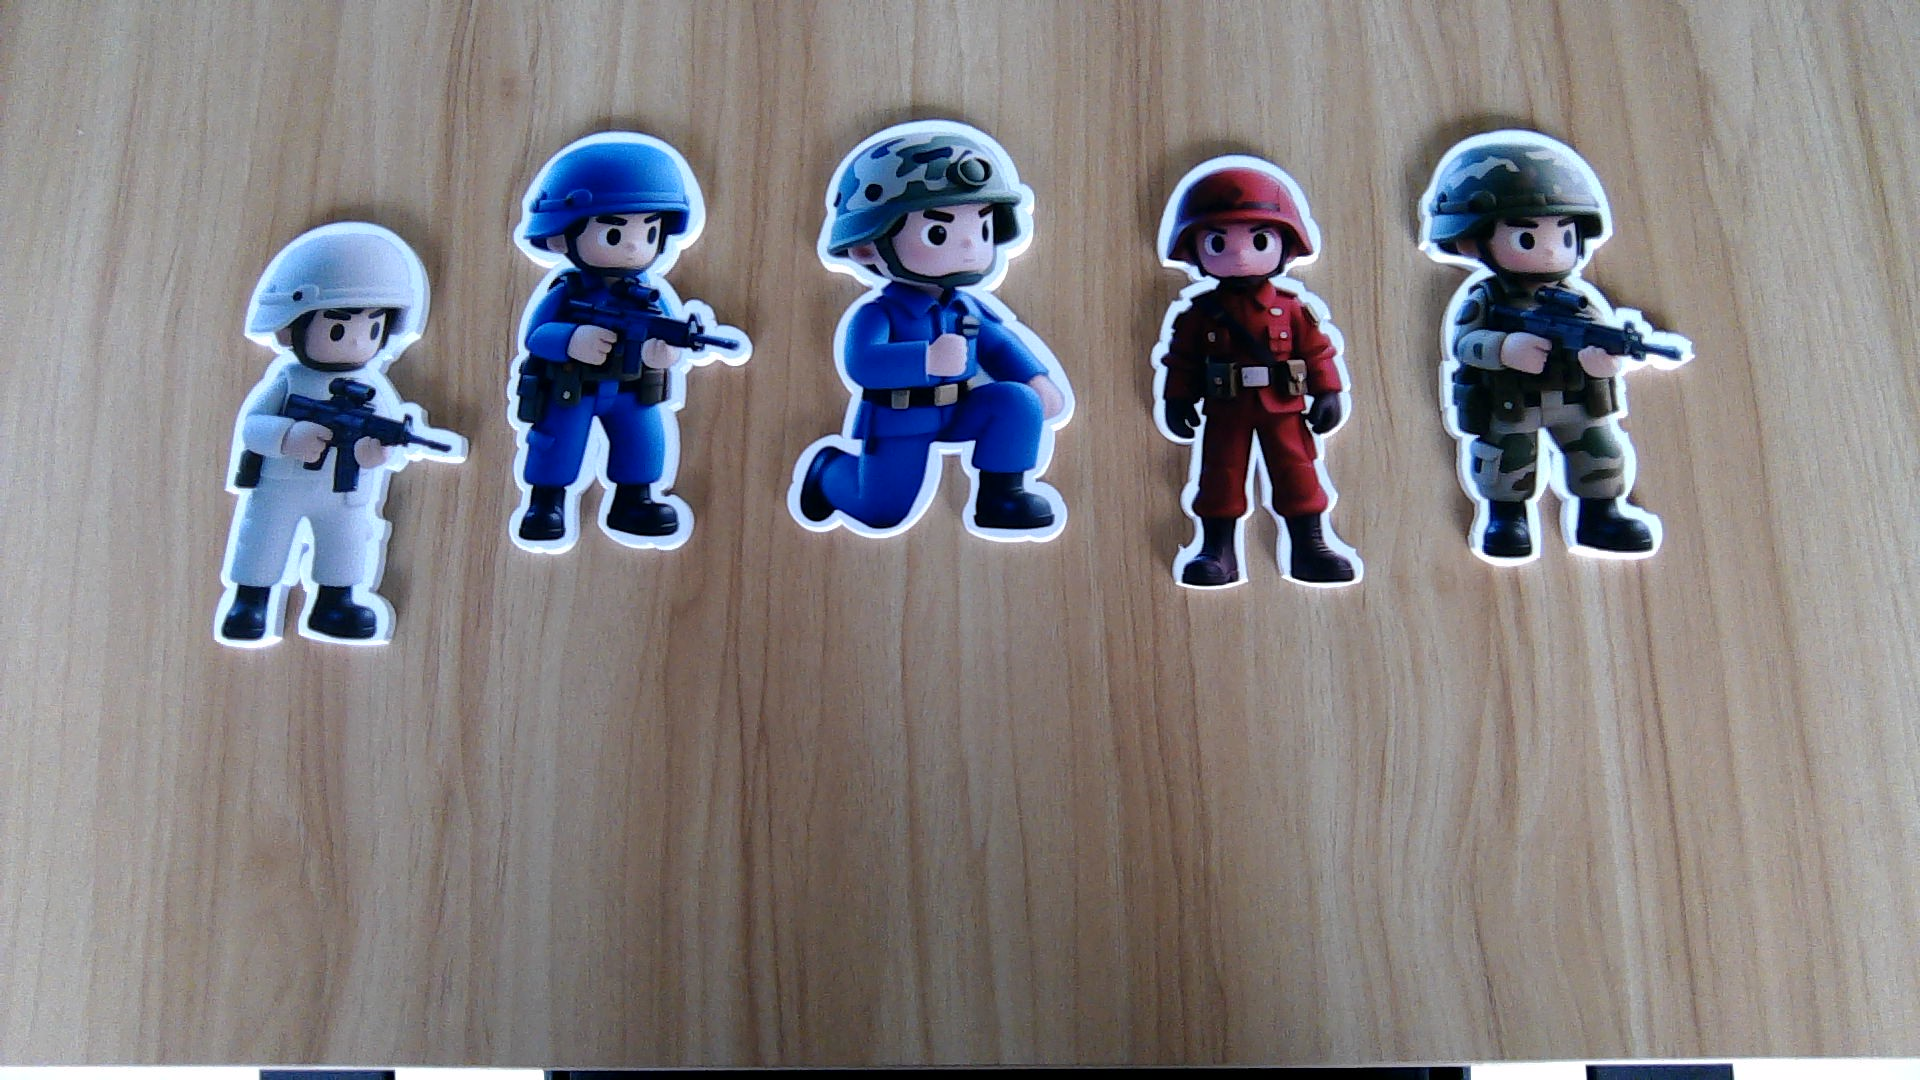人质: (203, 372, 455, 654)
友军: (1436, 276, 1697, 564)
敌人1: (1149, 282, 1367, 588)
敌人2: (782, 297, 1079, 543), (500, 285, 746, 546)
